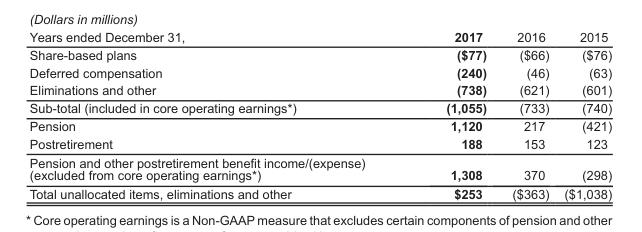table: (28, 29, 611, 200)
table column: (28, 29, 405, 200), (405, 29, 498, 200), (498, 29, 556, 200), (556, 29, 611, 200)
table column header: (28, 29, 611, 45)
table row: (28, 152, 611, 184), (28, 45, 611, 63), (28, 63, 611, 81), (28, 98, 611, 116), (28, 116, 611, 134), (28, 134, 611, 152), (28, 81, 611, 98), (28, 29, 611, 45), (28, 184, 611, 200)
